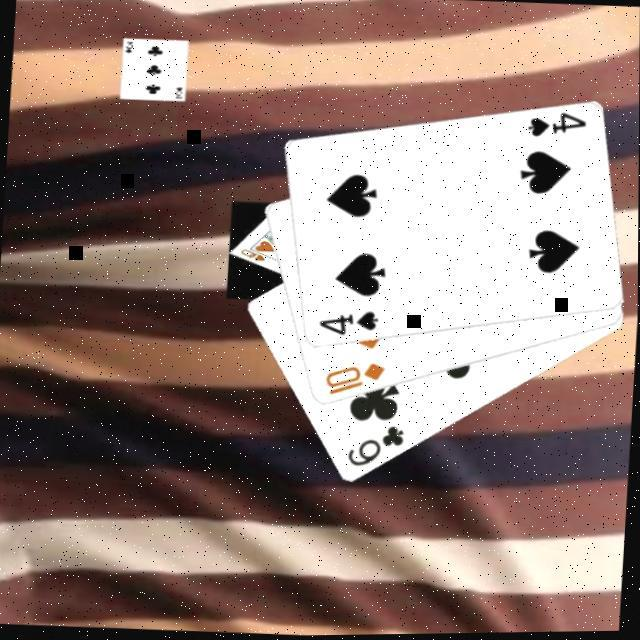10D: (321, 358, 387, 402)
4S: (314, 306, 380, 342), (523, 108, 589, 144)
6C: (343, 420, 407, 472)
